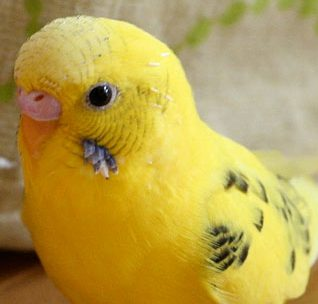budgie: (12, 15, 318, 304)
